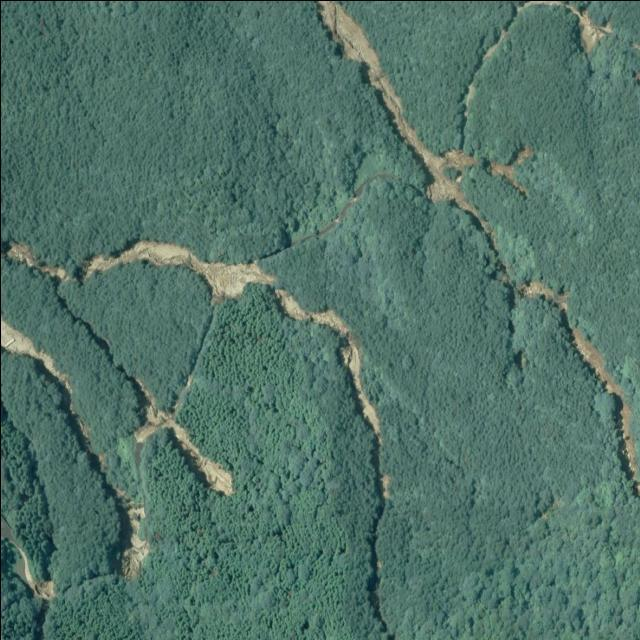landslide: (318, 0, 567, 317), (80, 240, 380, 444), (570, 326, 640, 496), (131, 387, 232, 496), (289, 170, 391, 246), (0, 318, 69, 395), (516, 0, 612, 52), (461, 25, 509, 125), (112, 488, 148, 578), (11, 542, 54, 601), (5, 242, 67, 280), (488, 145, 532, 192)
